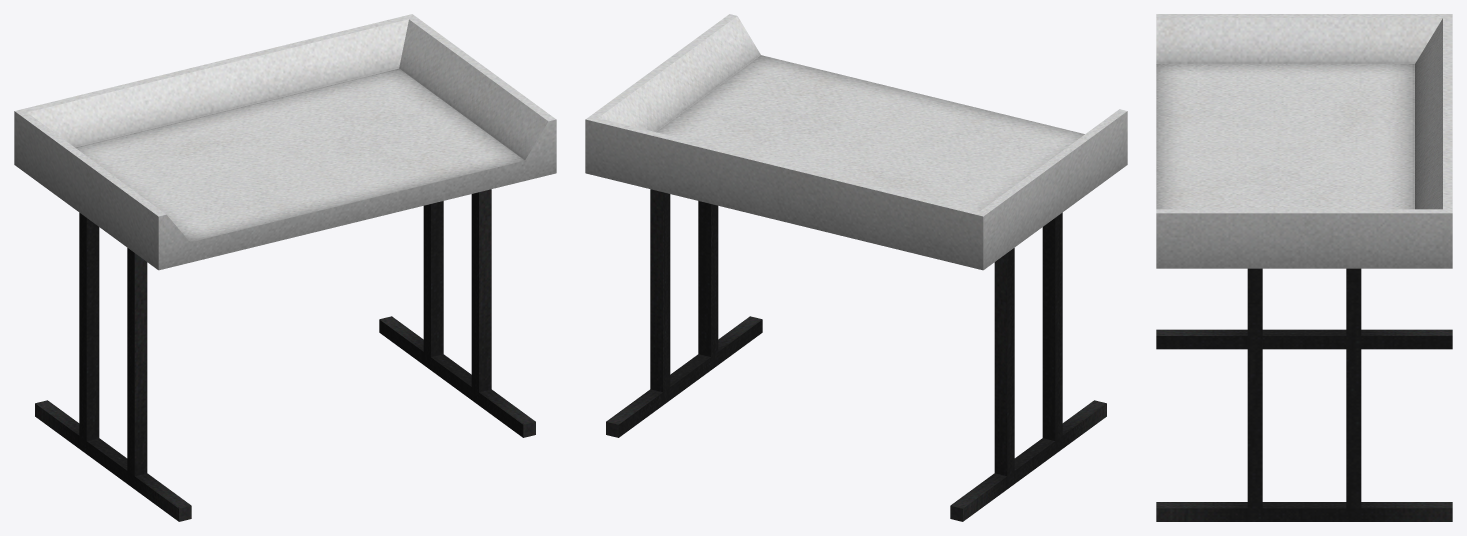
Rendered from folding-table.obj.
3 renders of one model, left to right at view 1: azimuth 30°, elevation 25°; view 2: azimuth 150°, elevation 25°; view 3: azimuth 270°, elevation 25°, orthographic. The views are drawn at different scales.
Visible parts, largest first — view 1: folding-table-col; view 2: folding-table-col; view 3: folding-table-col.
Part boxes in pixels (x1,y1,x2,y2): folding-table-col: (14,14,556,521); folding-table-col: (585,14,1127,521); folding-table-col: (1156,14,1452,521).
Size of the model in its own units: 1.1 by 0.82 by 0.69.
